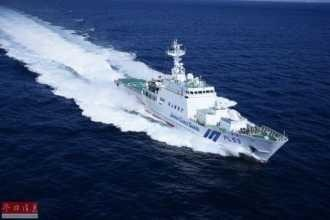warship: (111, 37, 287, 162)
